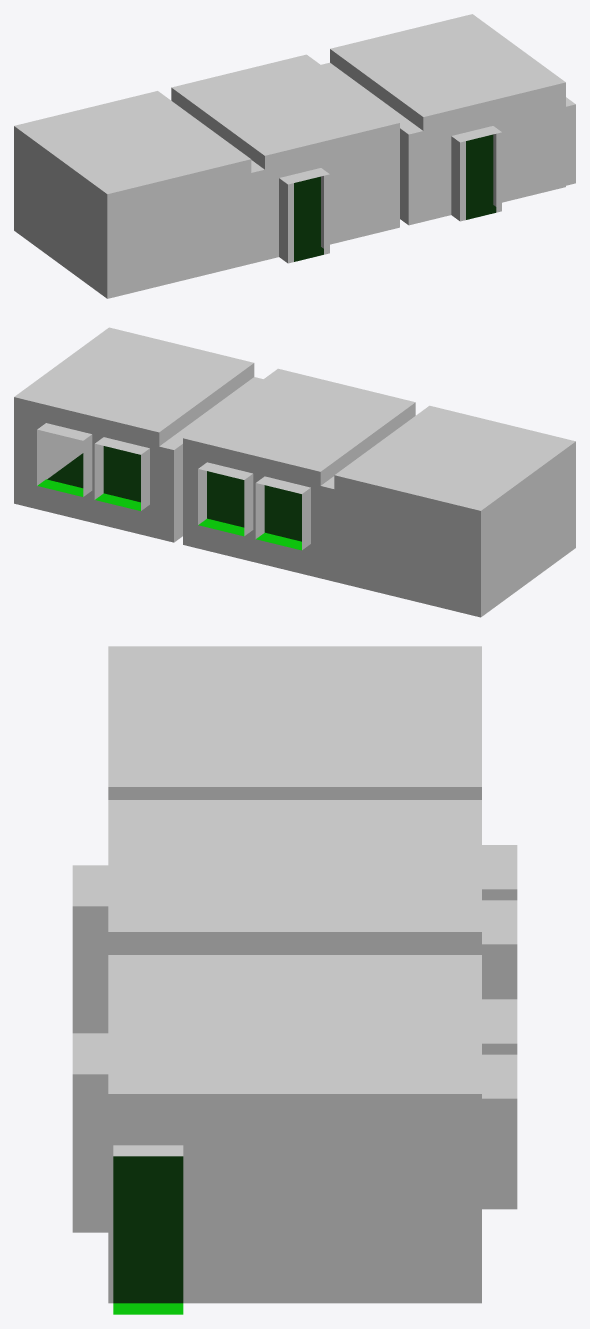
The model's file is patro2-A701.fbx.
3 renders of one model, top to bottom at view 1: azimuth 30°, elevation 25°; view 2: azimuth 150°, elevation 25°; view 3: azimuth 270°, elevation 25°, orthographic. The views are drawn at different scales.
Parts seen in each view (by area): view 1: A701.Front, A701.Top, A701.Left, A701.Bottom, A701.Right; view 2: A701.Top, A701.Back, A701.Left, A701.Bottom, A701.Right; view 3: A701.Top, A701.Right, A701.Bottom.
Boxes of the visible parts, bbox=[...] form: A701.Front: bbox=[107, 82, 575, 298]; A701.Top: bbox=[14, 14, 575, 194]; A701.Left: bbox=[14, 49, 459, 298]; A701.Bottom: bbox=[294, 134, 496, 261]; A701.Right: bbox=[321, 134, 496, 248]; A701.Top: bbox=[14, 327, 575, 510]; A701.Back: bbox=[14, 397, 480, 617]; A701.Left: bbox=[83, 363, 575, 616]; A701.Bottom: bbox=[37, 446, 301, 550]; A701.Right: bbox=[37, 429, 264, 538]; A701.Top: bbox=[72, 646, 517, 1156]; A701.Right: bbox=[72, 787, 517, 1303]; A701.Bottom: bbox=[113, 1156, 183, 1314].
Bounding box in the file's own units: 1245 × 265 × 510.
